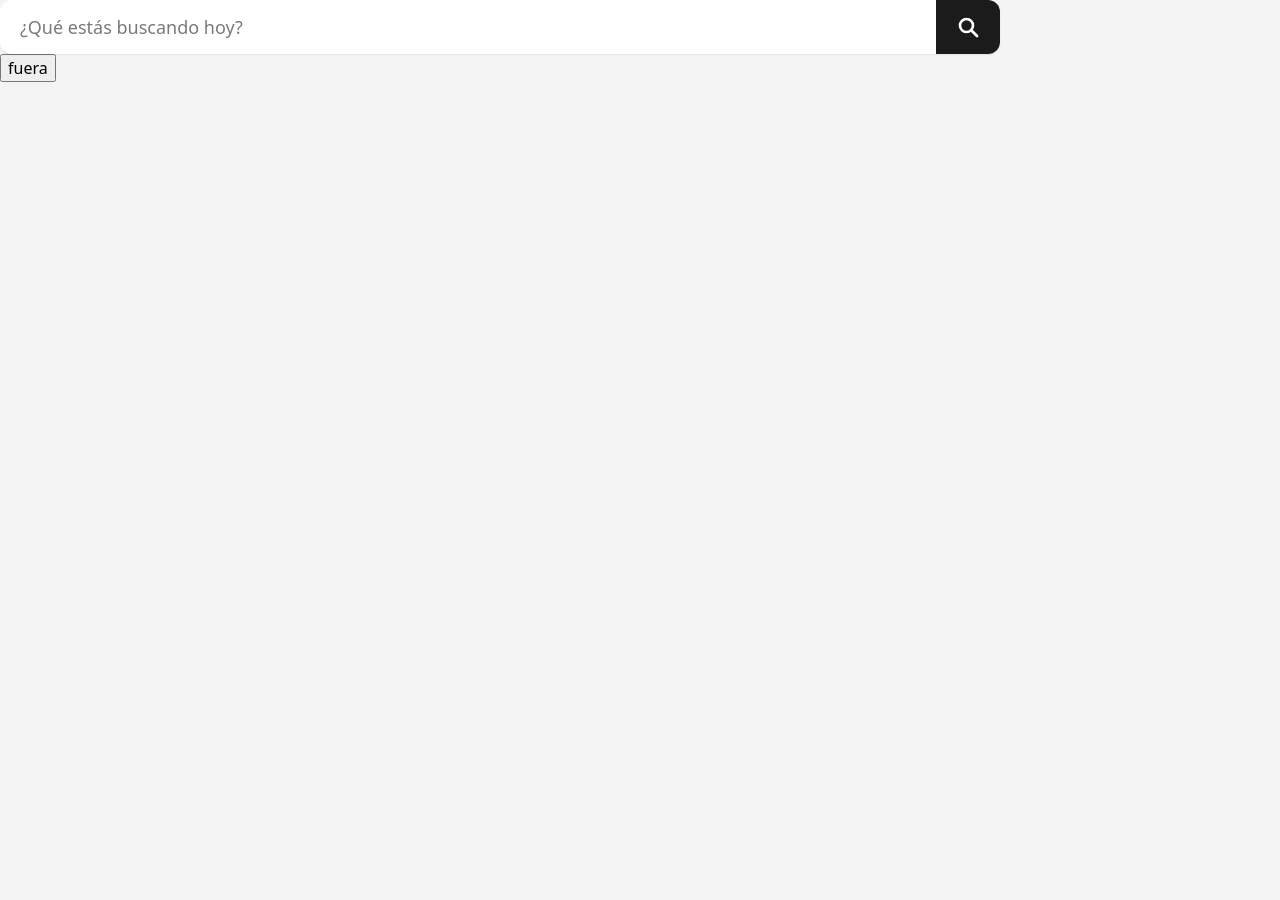
Scenario: SearchBox › una sugerencia del estado vacío lanza esa búsqueda
This screenshot has width=1280, height=900.
In the search field named "Buscar productos": (468, 27) [0,0,936,54], type "zapatos"
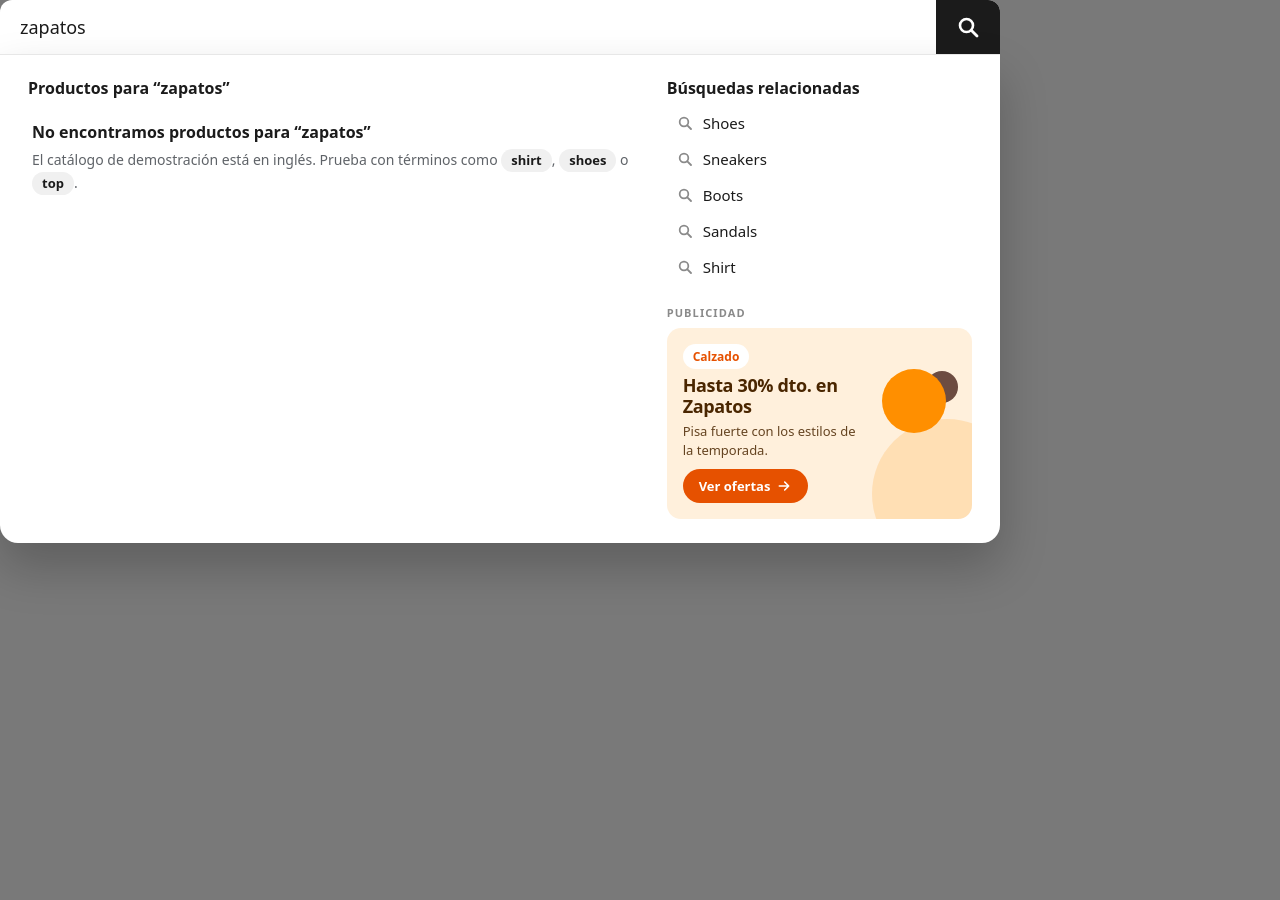
Now the text "No encontramos productos para “zapatos”" is shown, box [32,121,371,143]
Click the button "shoes" below "No encontramos productos para “": (588, 160) [559,149,616,172]
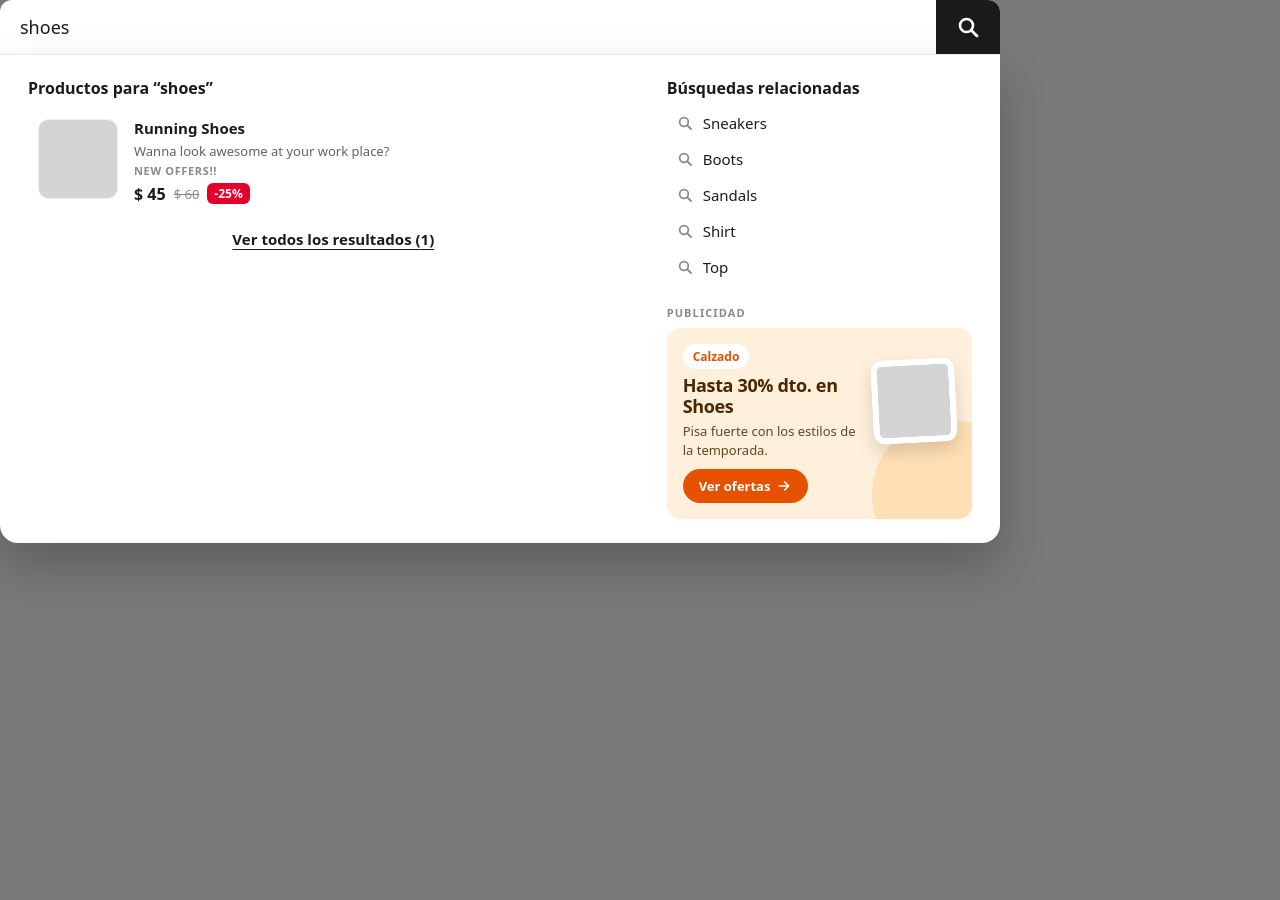
Now the search field named "Buscar productos" holds "shoes", box [0,0,936,54]
Now the text "Running Shoes" is shown, box [134,118,245,138]
